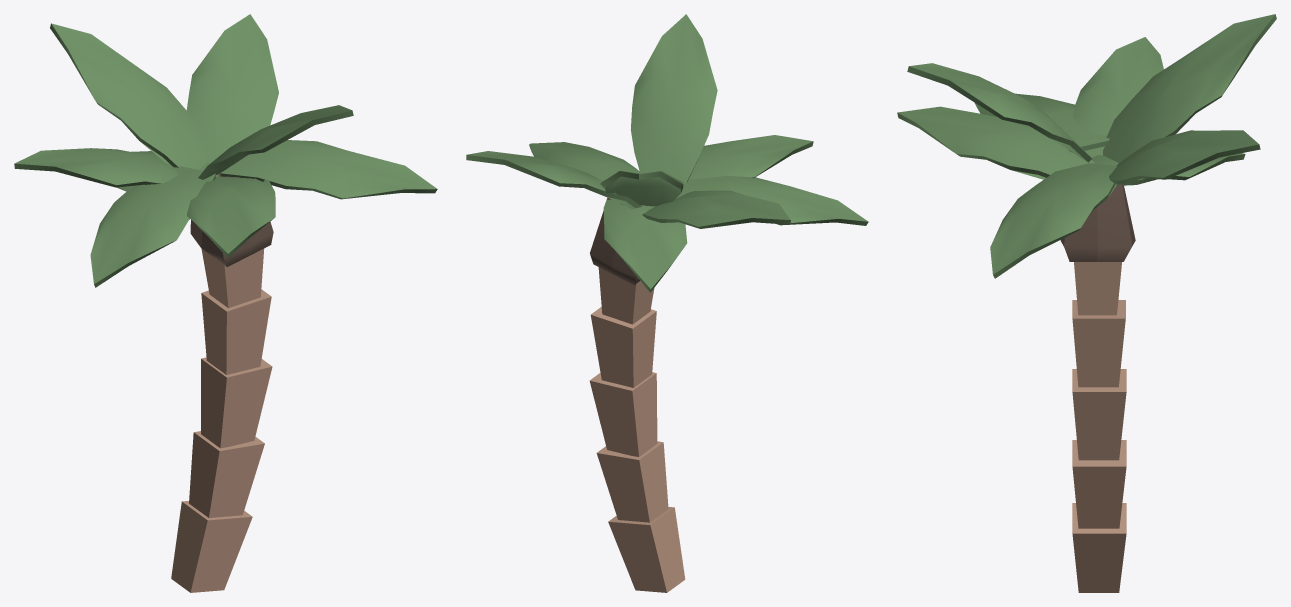
Rendered from palm_tree.fbx.
3 renders of one model, left to right at view 1: azimuth 30°, elevation 25°; view 2: azimuth 150°, elevation 25°; view 3: azimuth 270°, elevation 25°, orthographic. The views are drawn at different scales.
Parts seen in each view (by area): view 1: pPlane1, pPlane7, pPlane4, pPlane2, pCube3, pPlane6, pCube2, pCube4, pCube5, pPlane3, pPlane5, pCube6 (+1 smaller); view 2: pPlane5, pPlane8, pCube3, pCube2, pCube4, pPlane3, pCube5, pPlane2, pPlane6, pPlane1, pPlane4, pPlane7 (+2 smaller); view 3: pPlane7, pPlane4, pPlane6, pPlane3, pPlane1, pPlane5, pCube2, pCube5, pCube4, pCube7, pCube3, pCube6 (+2 smaller).
Part boxes in pixels (x1,y1,x2,y2): pPlane1: [186, 14, 278, 162]; pPlane7: [50, 23, 206, 169]; pPlane4: [220, 140, 437, 199]; pPlane2: [90, 166, 215, 287]; pCube3: [171, 501, 252, 592]; pPlane6: [187, 176, 275, 257]; pCube2: [201, 357, 272, 448]; pCube4: [189, 431, 264, 517]; pCube5: [201, 289, 271, 374]; pPlane3: [14, 148, 178, 187]; pPlane5: [198, 105, 353, 179]; pCube6: [201, 248, 264, 308]; pPlane5: [630, 14, 717, 184]; pPlane8: [603, 198, 687, 292]; pCube3: [608, 507, 685, 592]; pCube2: [589, 372, 657, 456]; pCube4: [596, 441, 668, 522]; pPlane3: [642, 190, 790, 228]; pCube5: [590, 307, 656, 387]; pPlane2: [676, 176, 868, 225]; pPlane6: [688, 135, 813, 179]; pPlane1: [466, 151, 641, 209]; pPlane4: [529, 142, 640, 180]; pPlane7: [600, 171, 683, 206]; pPlane7: [1103, 14, 1276, 162]; pPlane4: [990, 163, 1116, 278]; pPlane6: [897, 106, 1094, 179]; pPlane3: [1072, 37, 1163, 157]; pPlane1: [1109, 130, 1260, 184]; pPlane5: [907, 63, 1092, 162]; pCube2: [1072, 369, 1126, 460]; pCube5: [1072, 300, 1125, 387]; pCube4: [1072, 440, 1126, 528]; pCube7: [1060, 184, 1135, 261]; pCube3: [1072, 503, 1126, 592]; pCube6: [1074, 262, 1121, 315].
Size of the model in its own units: 5.07 by 7.26 by 4.54.
